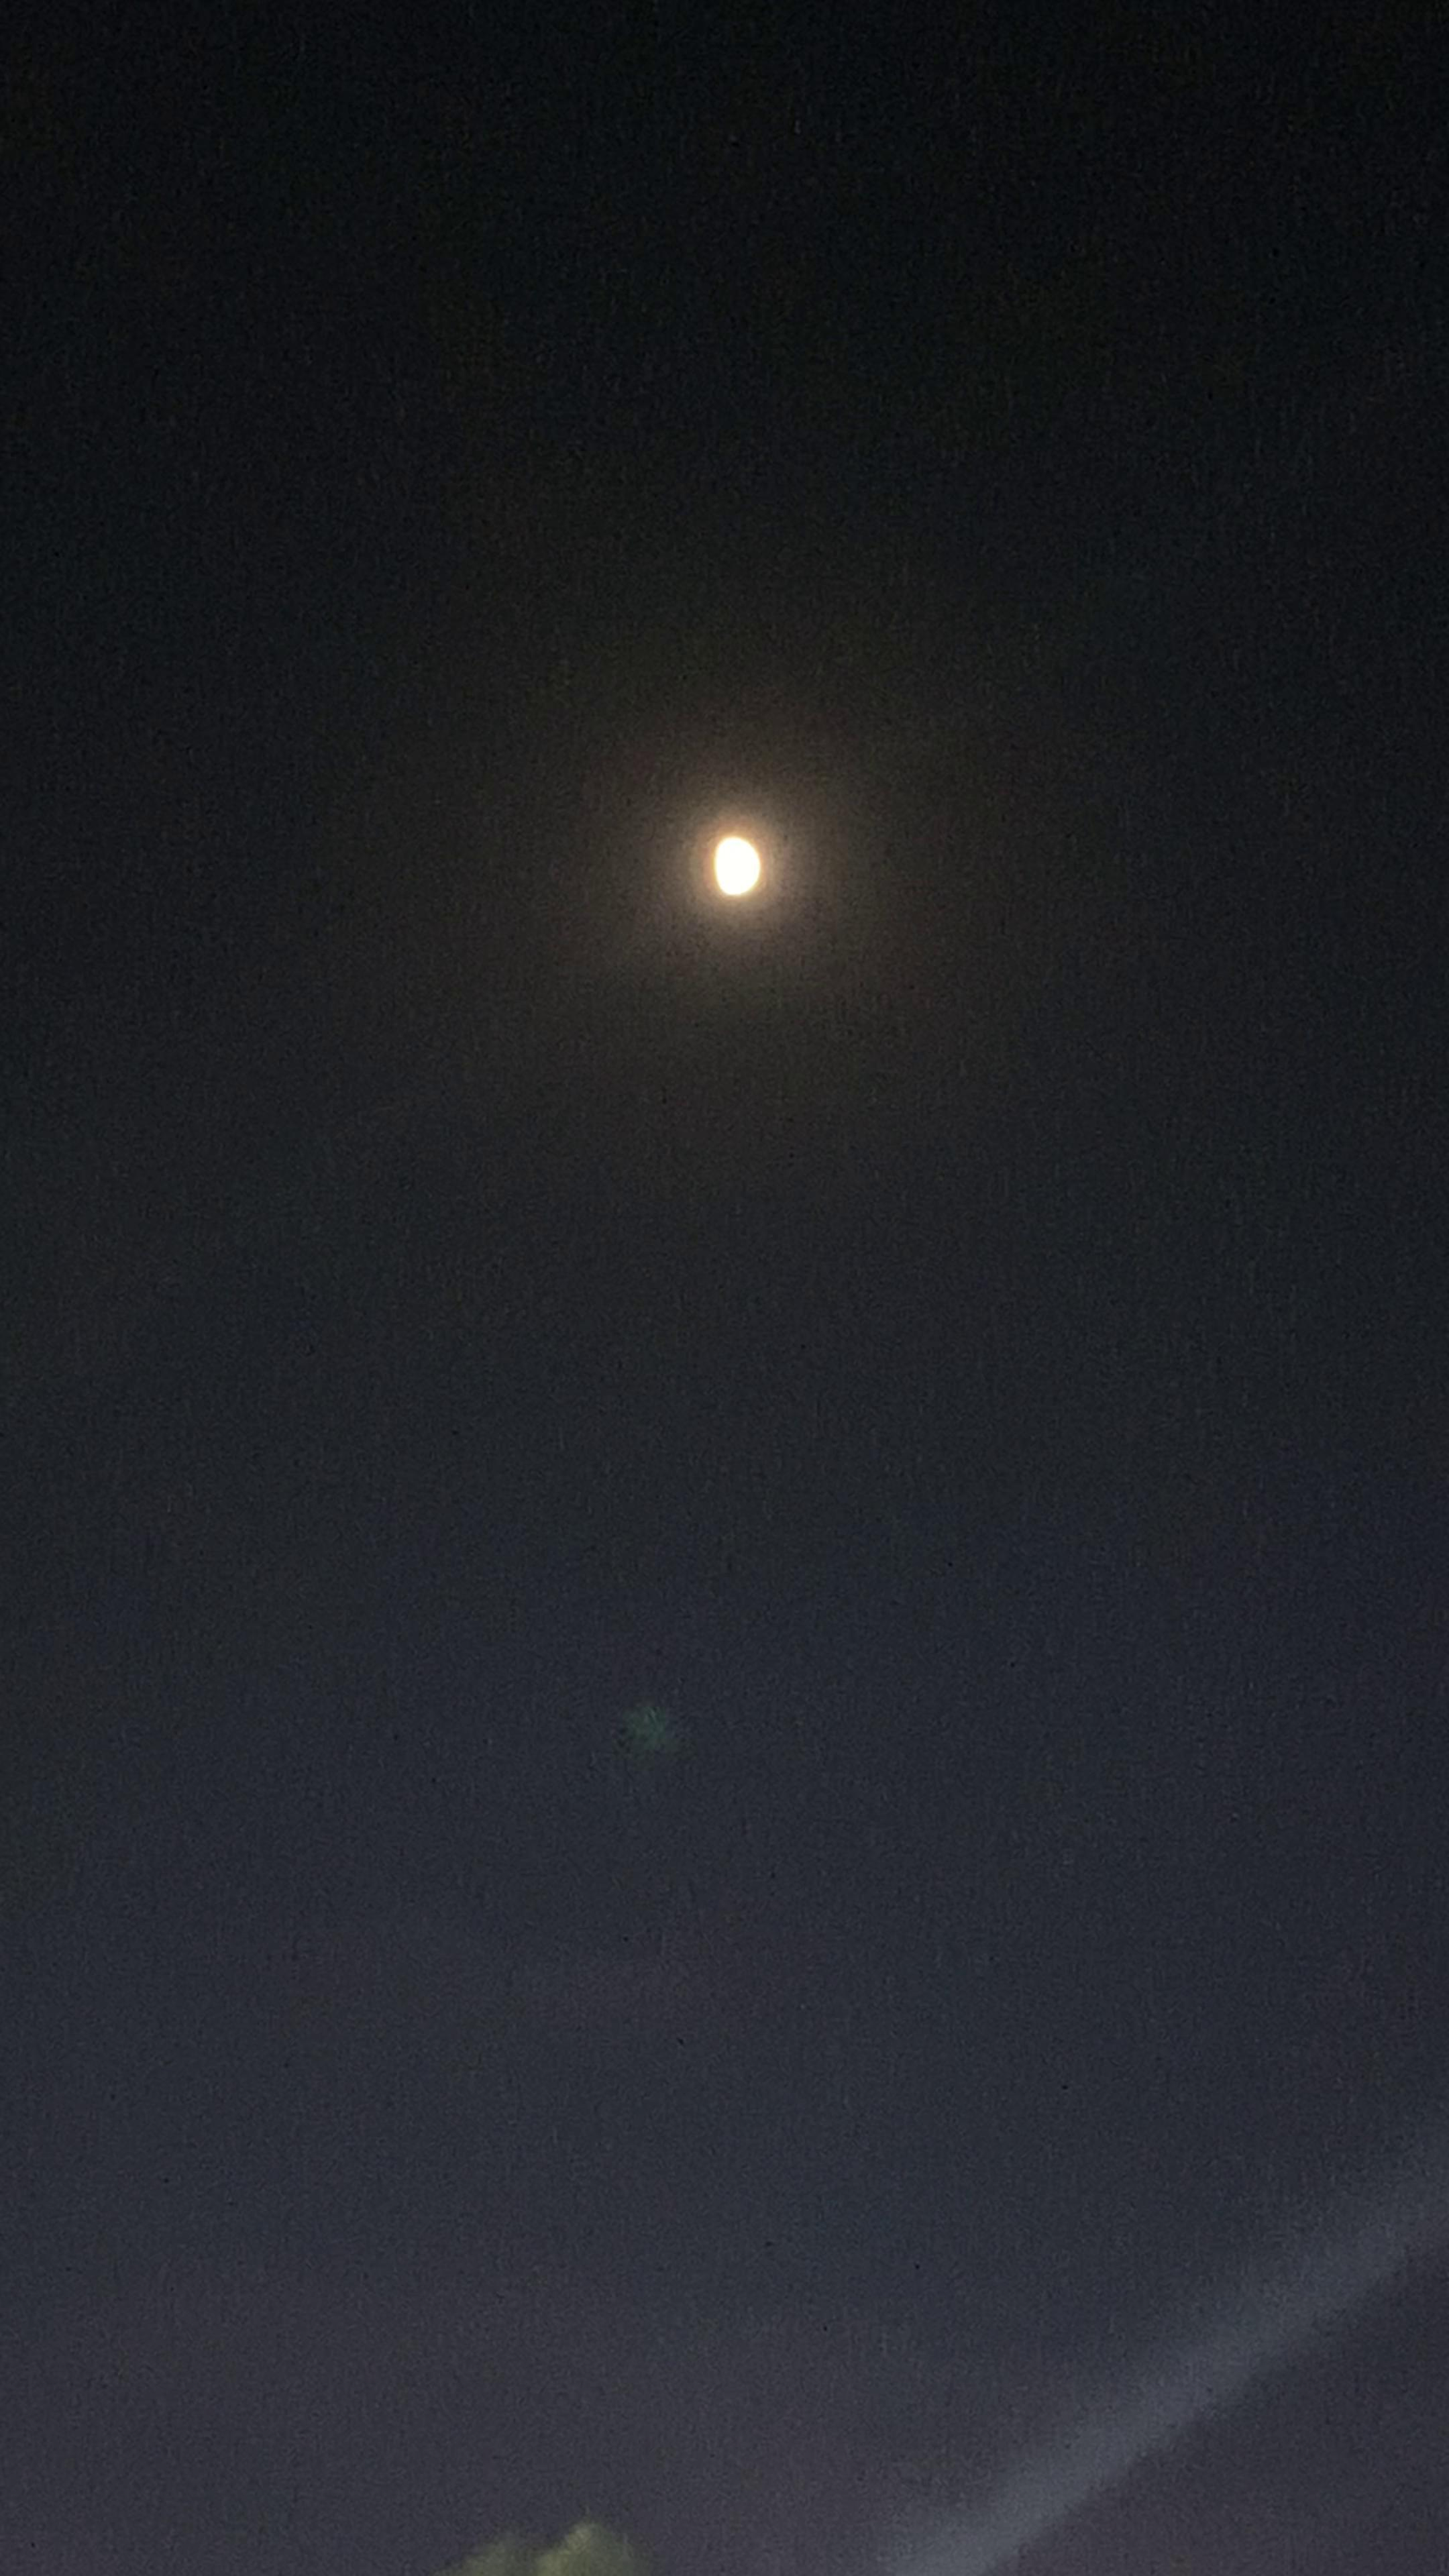moon: (679, 807, 796, 934)
